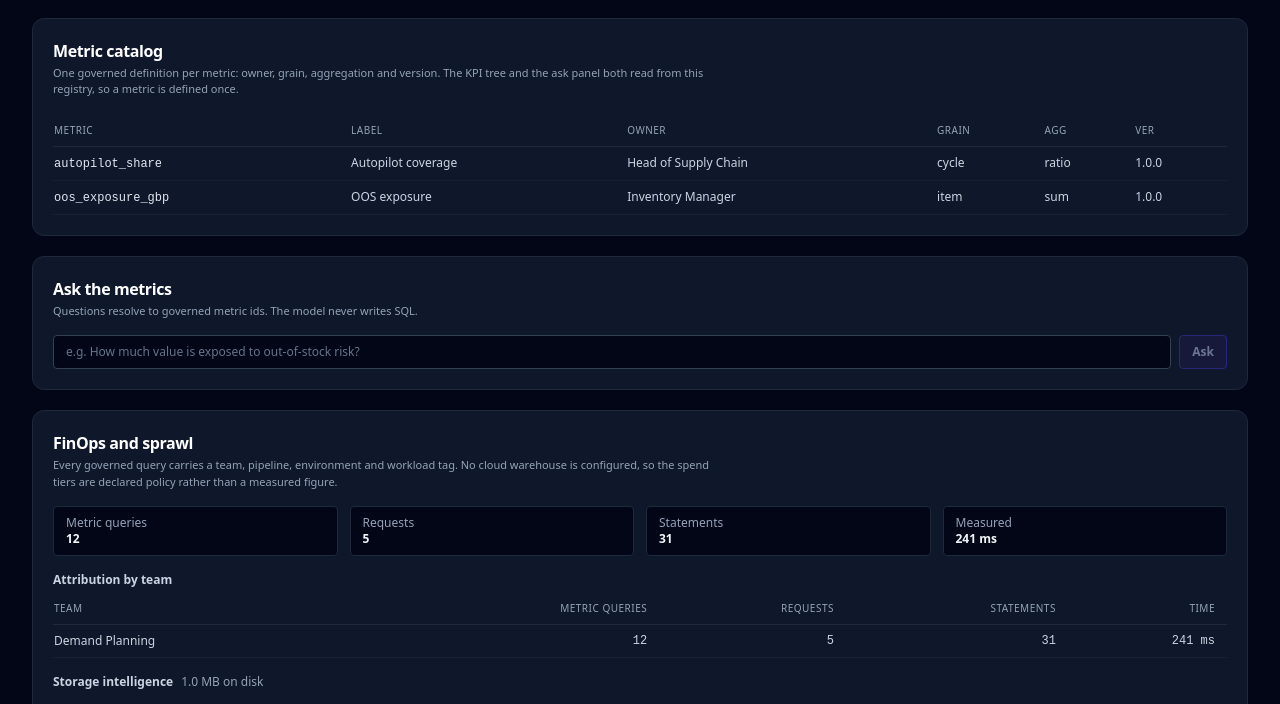
Test: BiPage › asks a grounded question and renders the resolved metrics
(page scrolled)
Type "How much OOS risk?" into the field with test id "bi-ask-input". click: {"x": 612, "y": 352}
box: [53,335,1171,369]
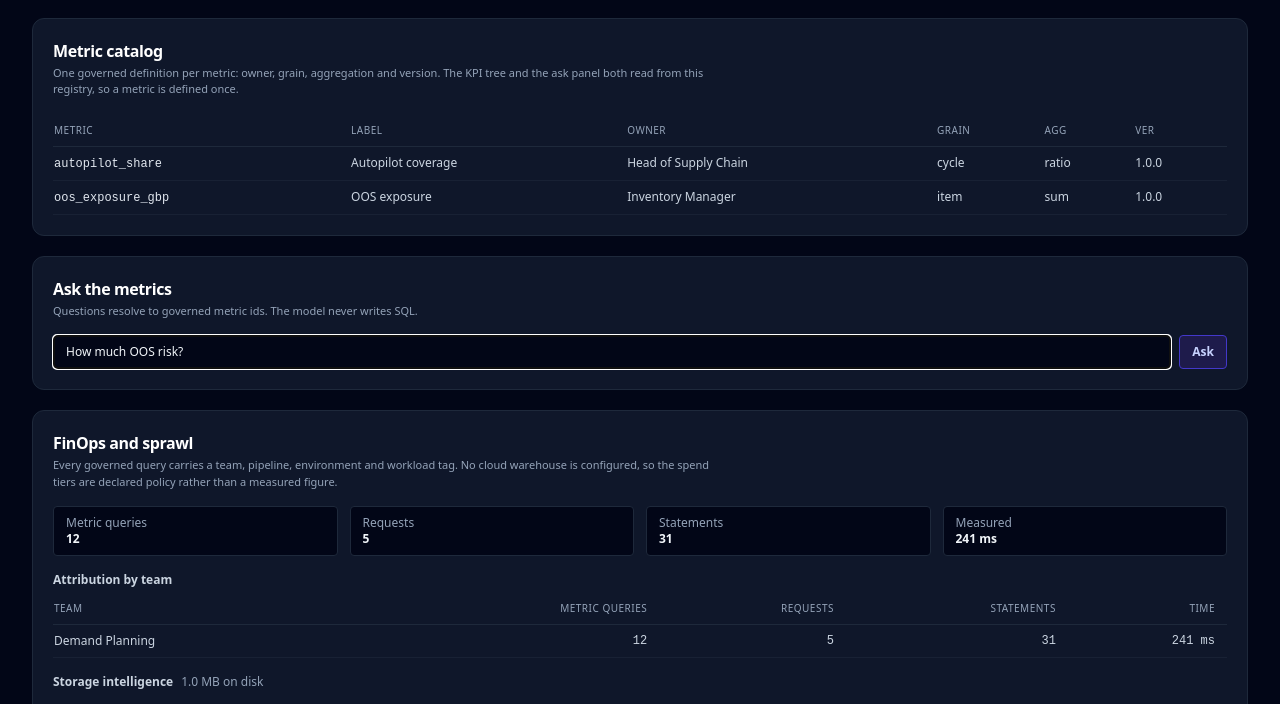
Click the button with test id "bi-ask-submit". click: {"x": 1203, "y": 352}
box: [1179,335,1227,369]
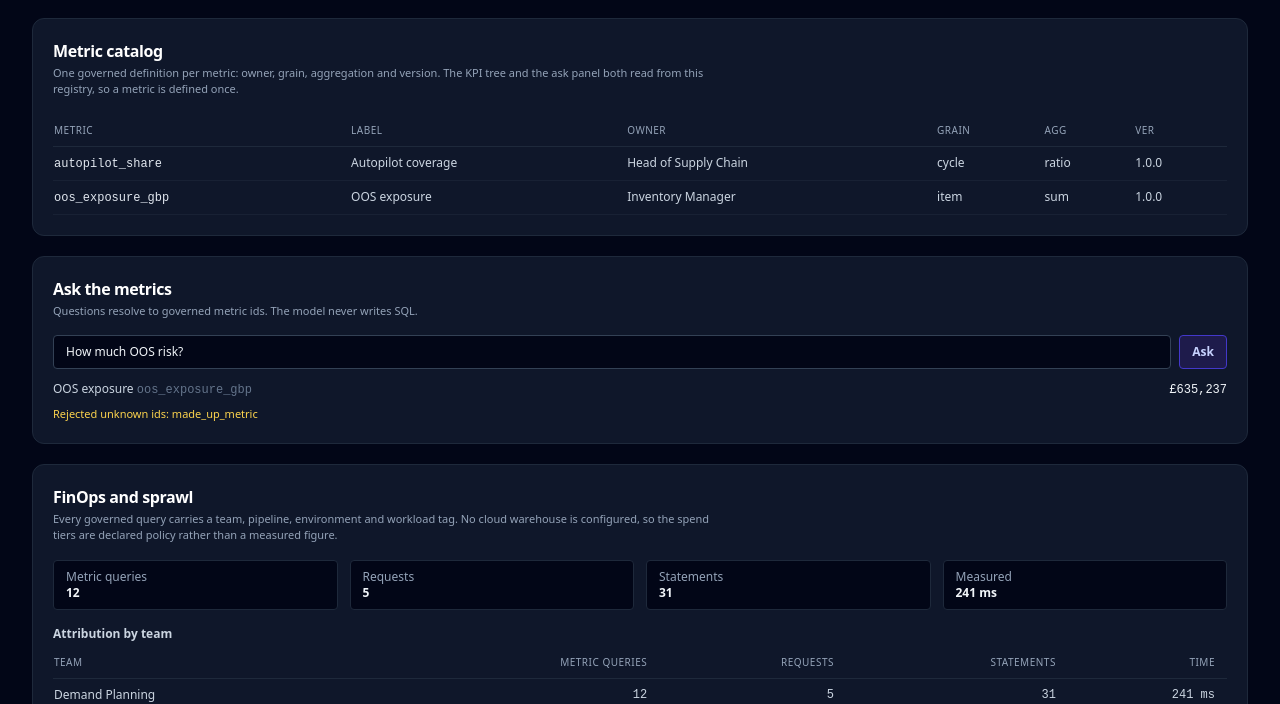
Check: the element with test id "bi-ask-result" shows "OOS exposure", box [53,380,134,397]
Check: the element with test id "bi-ask-result" shows "£635,237", box [1169,383,1227,397]
Check: the element with test id "bi-ask-result" shows "made_up_metric", box [172,406,258,421]
